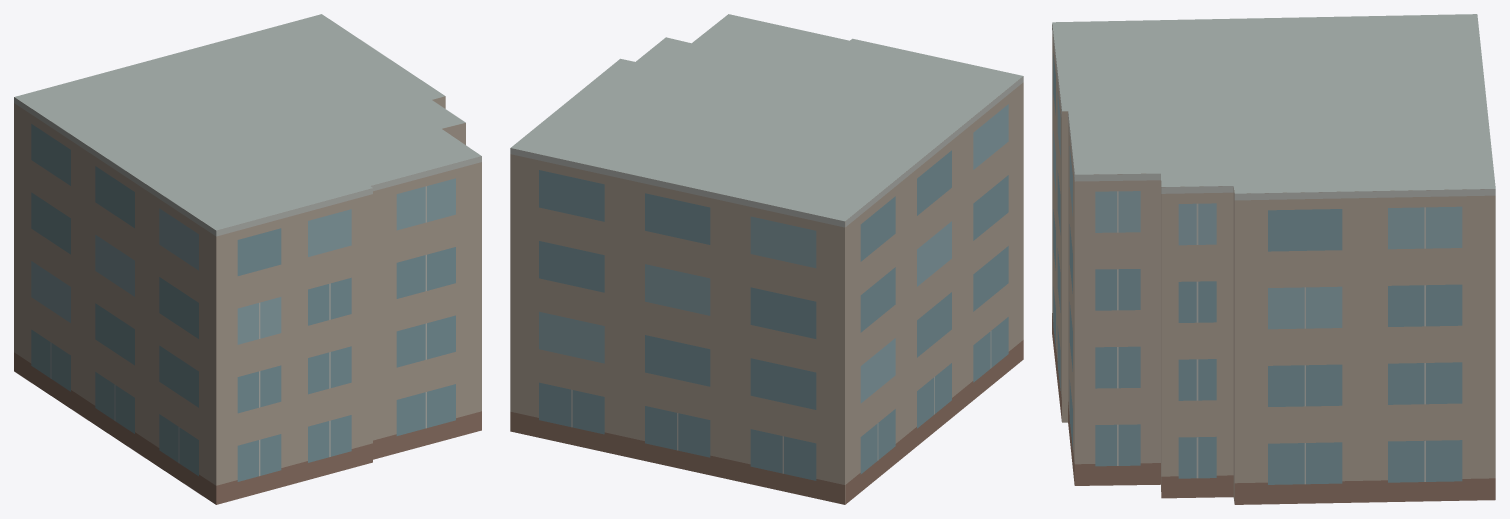
File: survey-upis-32804136.glb
3 views of the same model, side by side, from view 1: azimuth 30°, elevation 25°; view 2: azimuth 150°, elevation 25°; view 3: azimuth 270°, elevation 25° (orthographic). The views are drawn at different scales.
Parts seen in each view (by area): view 1: survey-upis-32804136.tmp; view 2: survey-upis-32804136.tmp; view 3: survey-upis-32804136.tmp.
Boxes of the visible parts, x1,y1,x2,y2 form: survey-upis-32804136.tmp: [14, 14, 481, 504]; survey-upis-32804136.tmp: [510, 14, 1023, 504]; survey-upis-32804136.tmp: [1052, 14, 1495, 504].
Size of the model in its own units: 13.88 by 11.2 by 14.48.
